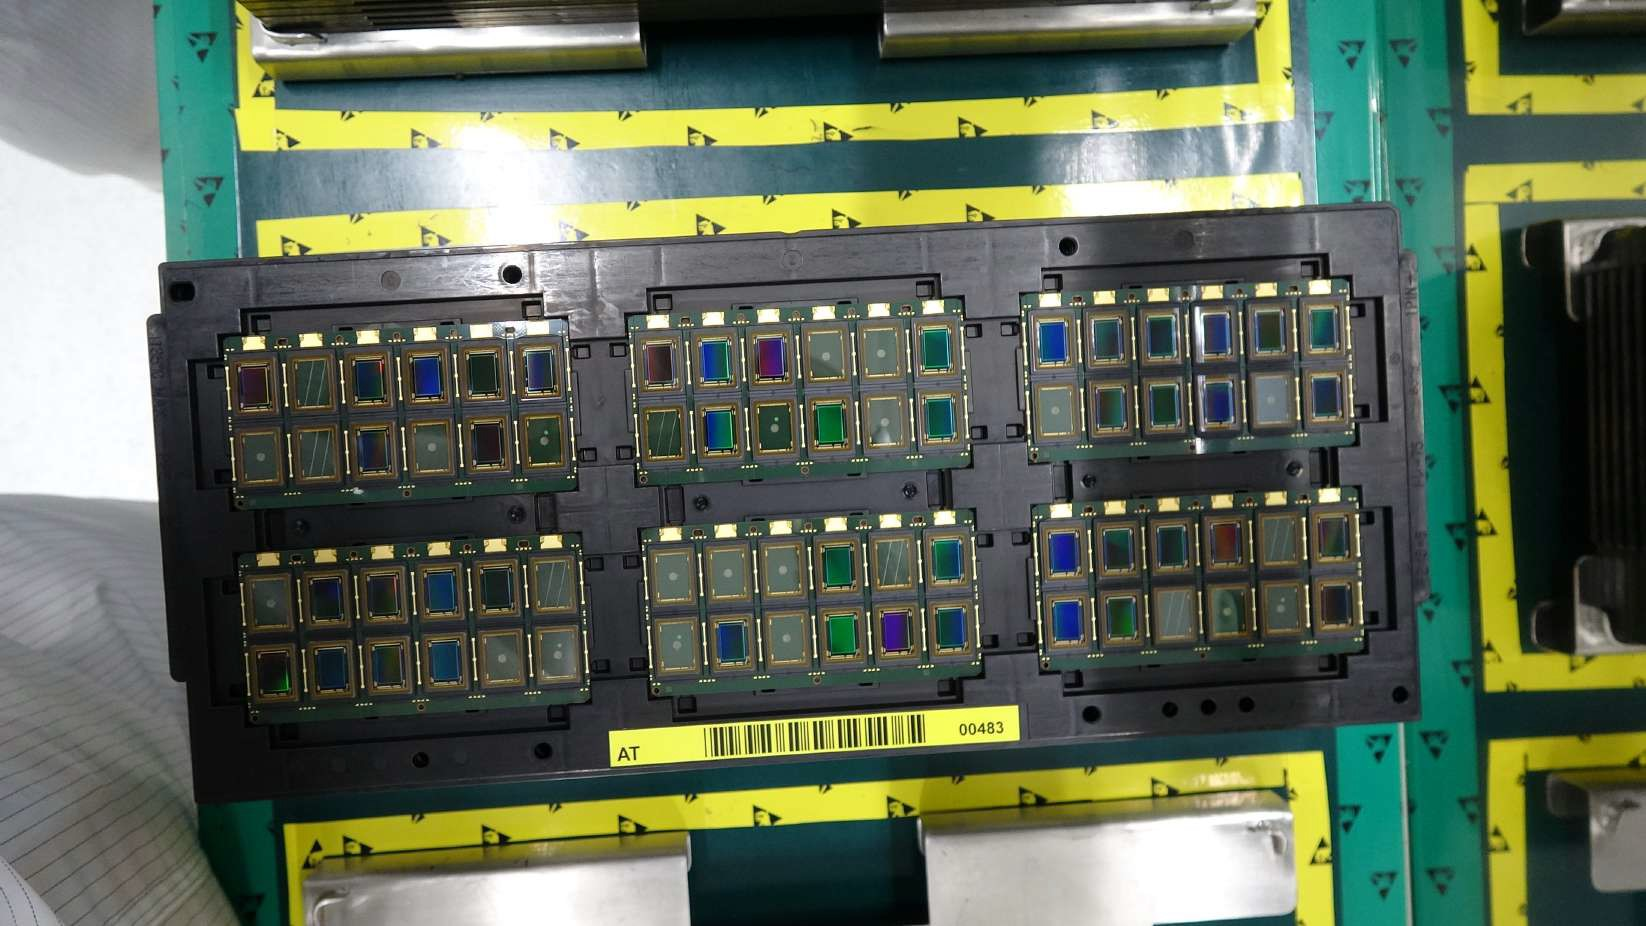Bad_mark_from_BMS_mold: (291, 421, 341, 486), (285, 349, 337, 413), (527, 555, 580, 615), (638, 403, 688, 464), (1152, 585, 1198, 644), (870, 531, 917, 590), (1256, 513, 1302, 566)
Bad_mark_from_Maker: (802, 319, 852, 386), (406, 412, 456, 477), (518, 408, 568, 471), (704, 540, 754, 603), (242, 572, 294, 631), (857, 319, 906, 381), (235, 425, 283, 488), (750, 397, 799, 457), (859, 388, 909, 448), (476, 628, 525, 689), (762, 608, 811, 669), (650, 544, 698, 606), (1032, 377, 1080, 439), (532, 624, 580, 684), (1249, 367, 1296, 429), (759, 539, 806, 598), (653, 616, 700, 676), (1206, 581, 1253, 640), (1261, 577, 1306, 637)
